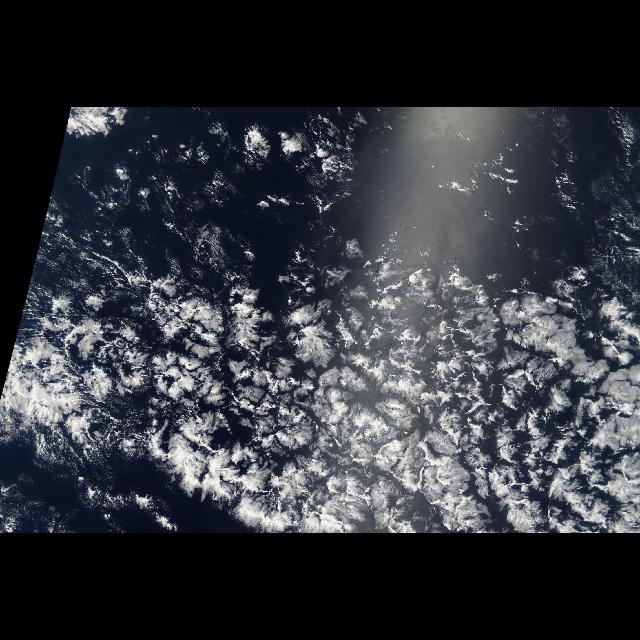Flower: (222, 271, 496, 443)
